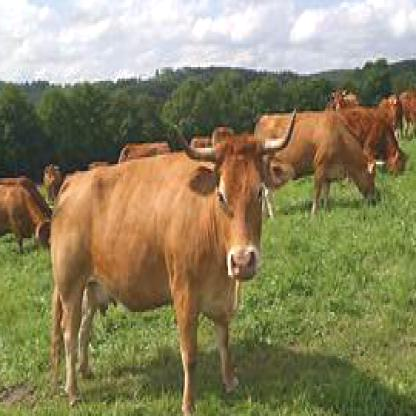cow: (51, 111, 299, 414), (253, 113, 385, 213), (0, 180, 54, 259)
